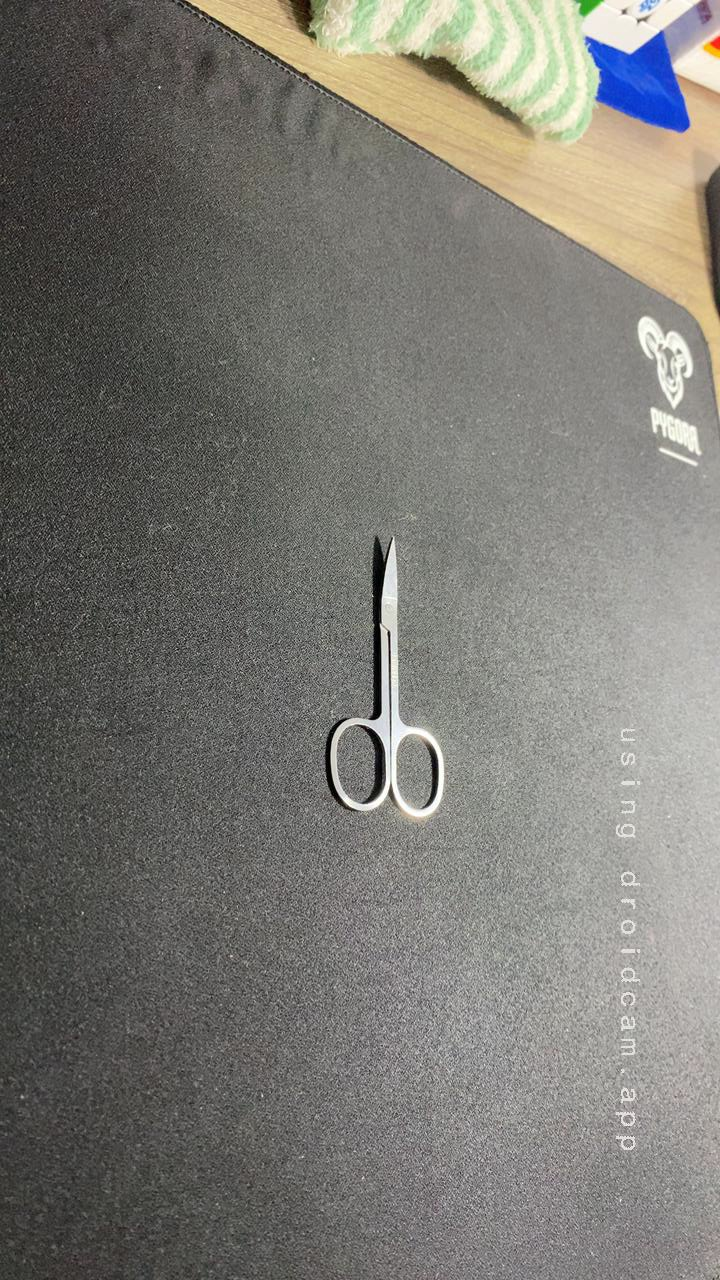scissor: (299, 524, 472, 834)
